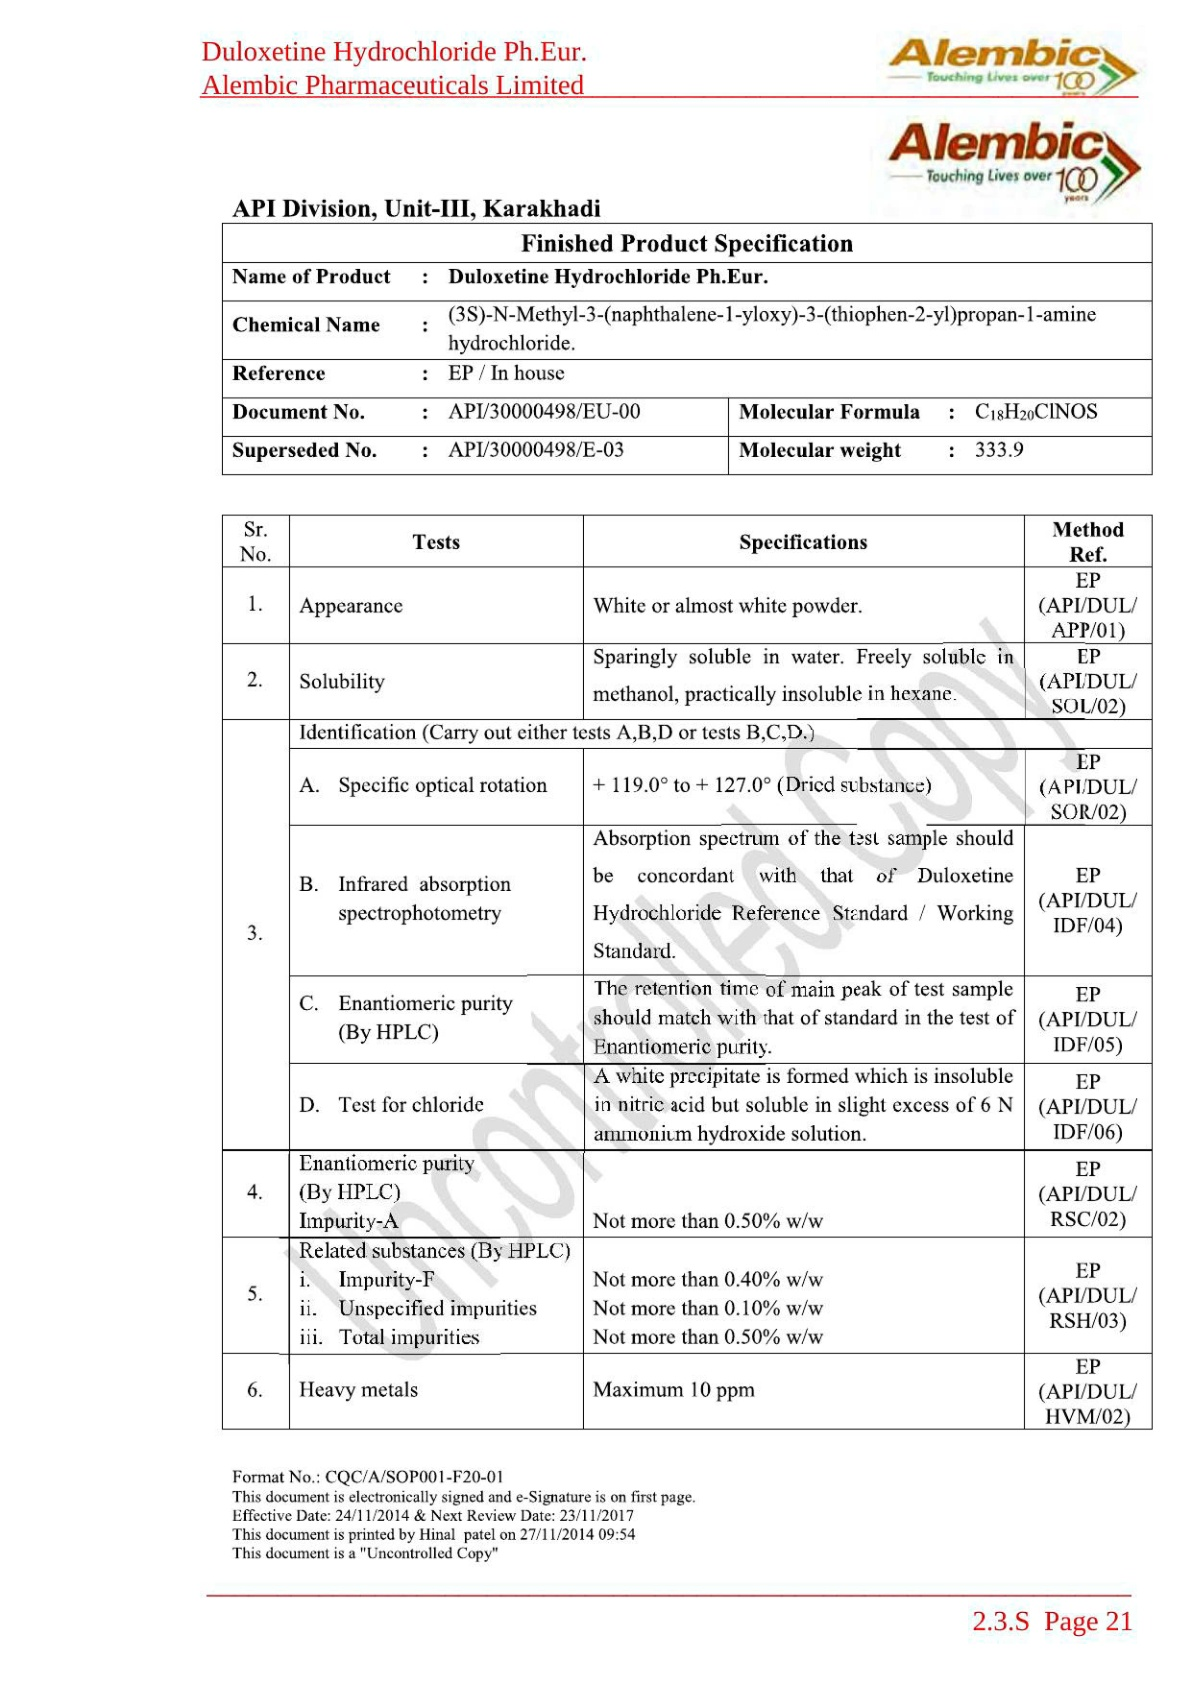merged_cells: (221, 513, 1152, 1431), (221, 220, 1155, 476)
